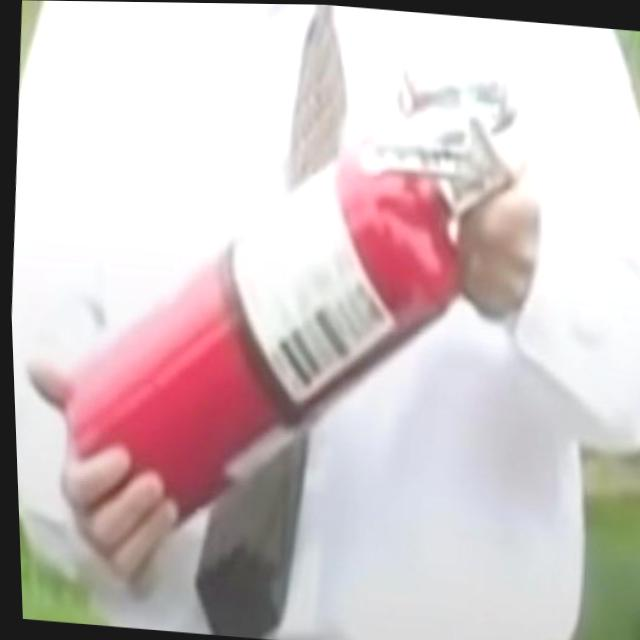FireExtinguisher: (31, 16, 549, 587)
